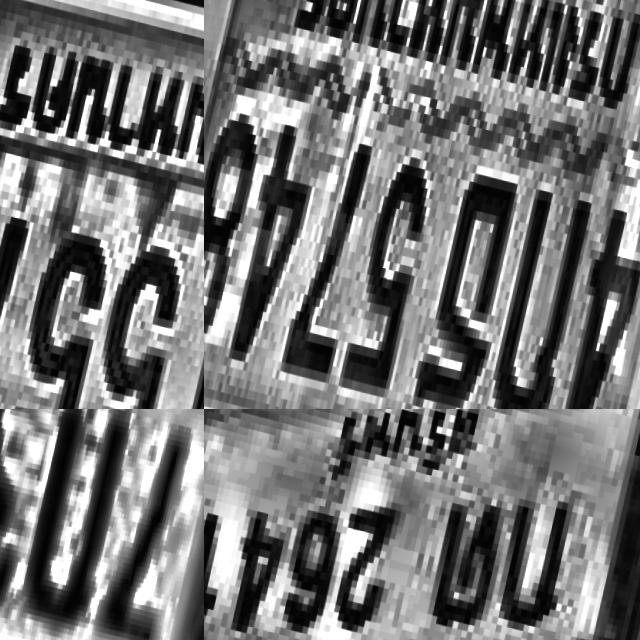license-plate: (204, 0, 640, 409), (204, 409, 640, 640), (0, 0, 204, 409), (0, 409, 204, 640)
